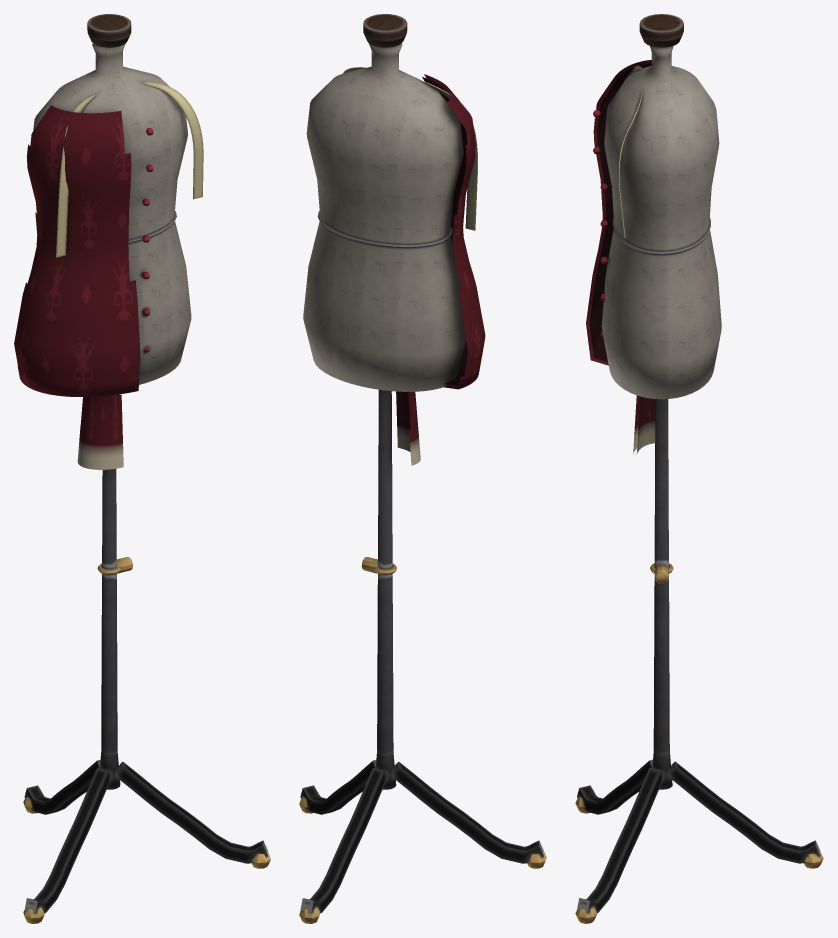
The model's file is DressForm.fbx.
The picture shows the model from 3 angles, left to right: view 1: azimuth 30°, elevation 25°; view 2: azimuth 150°, elevation 25°; view 3: azimuth 270°, elevation 25°; orthographic projection.
Visible parts, largest first — view 1: DressForm; view 2: DressForm; view 3: DressForm.
Boxes of the visible parts, x1,y1,x2,y2 form: DressForm: (14, 14, 270, 923); DressForm: (299, 14, 546, 923); DressForm: (575, 14, 823, 923).
Bounding box in the file's own units: 154 × 509 × 135.
